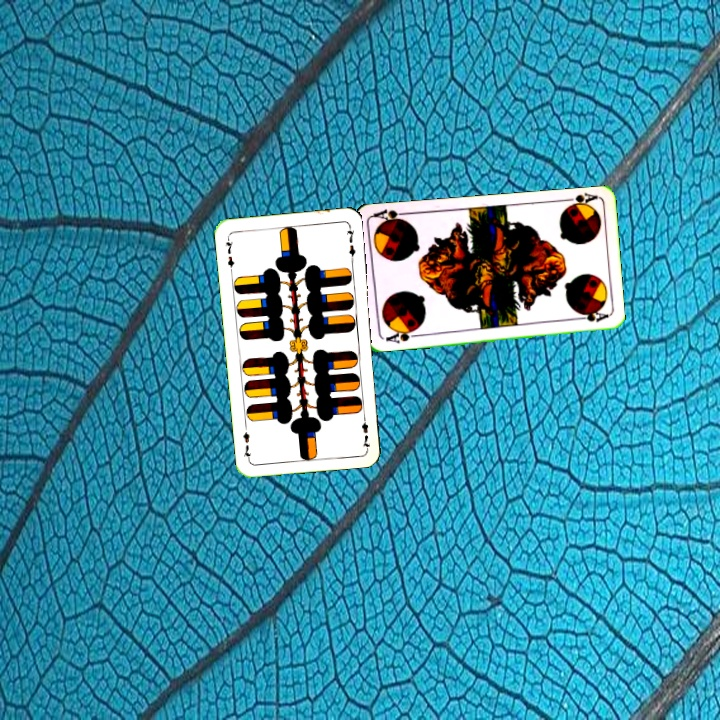E7: (221, 233, 237, 274), (357, 410, 373, 451)
SA: (559, 190, 599, 212), (382, 324, 421, 346)
